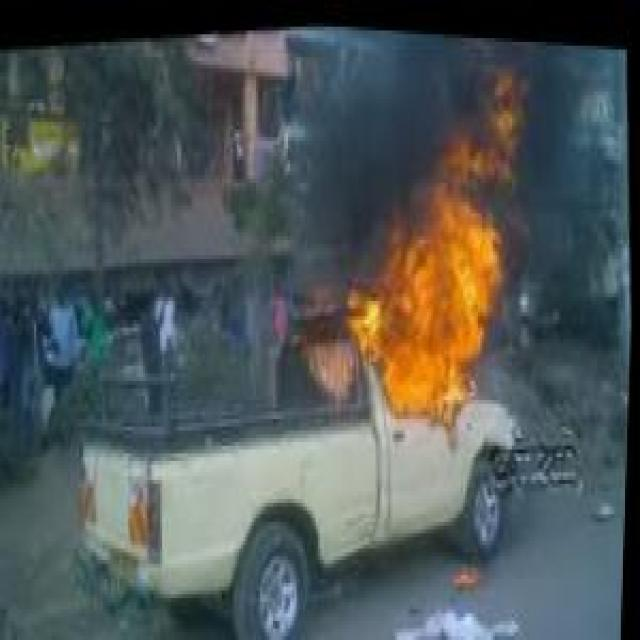Fire: (335, 46, 544, 430)
Smoke: (518, 34, 638, 324), (314, 19, 391, 263)
